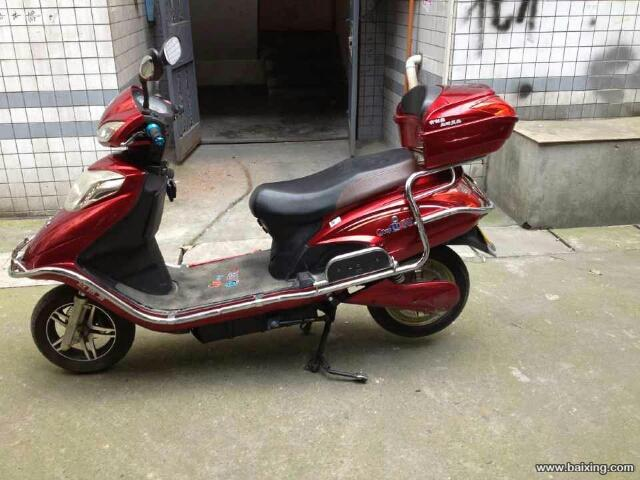电动车: (7, 34, 525, 403)
